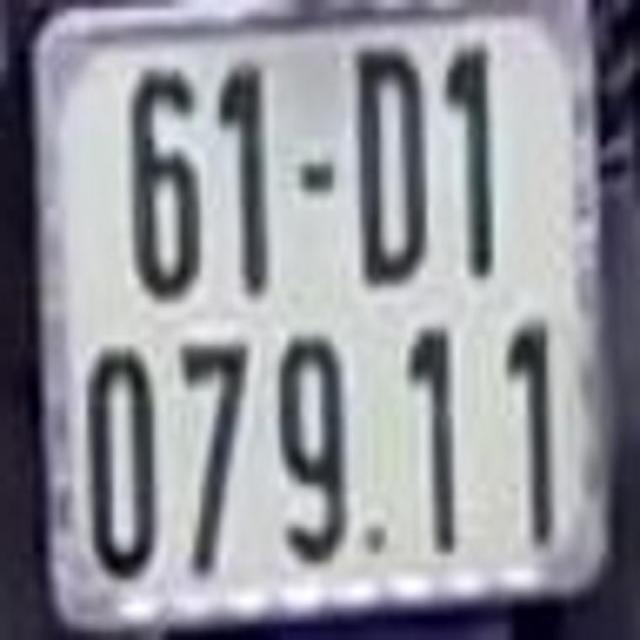0: (85, 348, 160, 570)
1: (446, 48, 508, 283), (504, 317, 564, 552), (403, 323, 464, 551), (217, 61, 275, 290)
6: (132, 66, 207, 298)
7: (178, 343, 251, 568)
9: (277, 331, 351, 567)
D: (354, 50, 424, 287)
